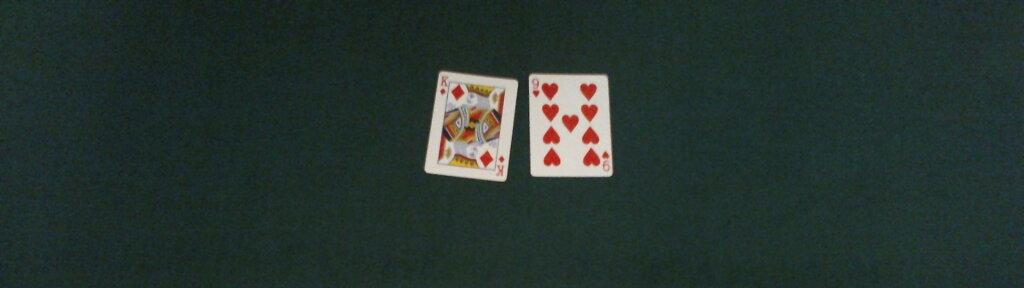king: (421, 70, 519, 184)
nine: (526, 73, 615, 178)
